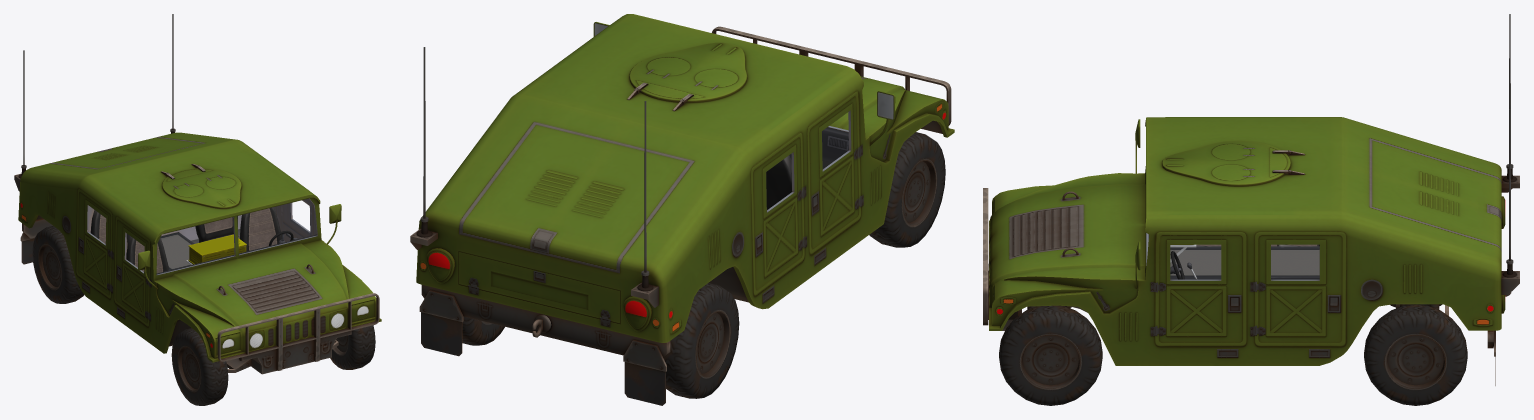
File: MilitaryHamvee01_2Drv.FBX
The picture shows the model from 3 angles, left to right: view 1: azimuth 30°, elevation 25°; view 2: azimuth 150°, elevation 25°; view 3: azimuth 270°, elevation 25°; orthographic projection. The views are drawn at different scales.
Parts seen in each view (by area): view 1: MilitaryHamvee01_2Body, WheelFrontRight, WheelRearRight, WheelFrontLeft; view 2: MilitaryHamvee01_2Body, WheelRearRight, WheelFrontRight, WheelRearLeft; view 3: MilitaryHamvee01_2Body, WheelRearLeft, WheelFrontLeft.
Part boxes in pixels (box(x1,y1,x2,y2)): MilitaryHamvee01_2Body: box(14, 14, 381, 374); WheelFrontRight: box(171, 328, 228, 405); WheelRearRight: box(32, 226, 84, 303); WheelFrontLeft: box(330, 325, 375, 369); MilitaryHamvee01_2Body: box(410, 14, 954, 405); WheelRearRight: box(663, 283, 739, 398); WheelFrontRight: box(869, 132, 945, 247); WheelRearLeft: box(462, 316, 504, 345); MilitaryHamvee01_2Body: box(983, 14, 1519, 385); WheelRearLeft: box(1364, 304, 1467, 405); WheelFrontLeft: box(999, 305, 1102, 405).
Size of what is drawn, in the model's own units: 3.22 by 3.4 by 5.64.
